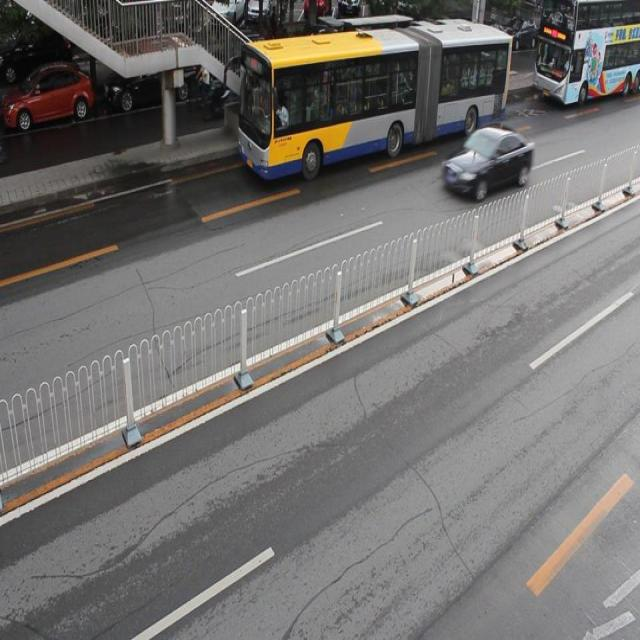car: (441, 124, 533, 200), (1, 61, 93, 130), (103, 44, 193, 105), (206, 31, 272, 95), (290, 26, 362, 84)
van: (239, 22, 510, 170), (532, 1, 640, 105)
